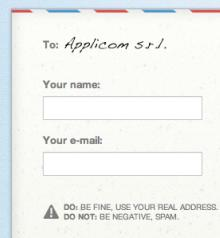field: (42, 151, 203, 176), (42, 95, 202, 120)
field_with_label: (40, 134, 205, 177), (41, 79, 205, 122)
